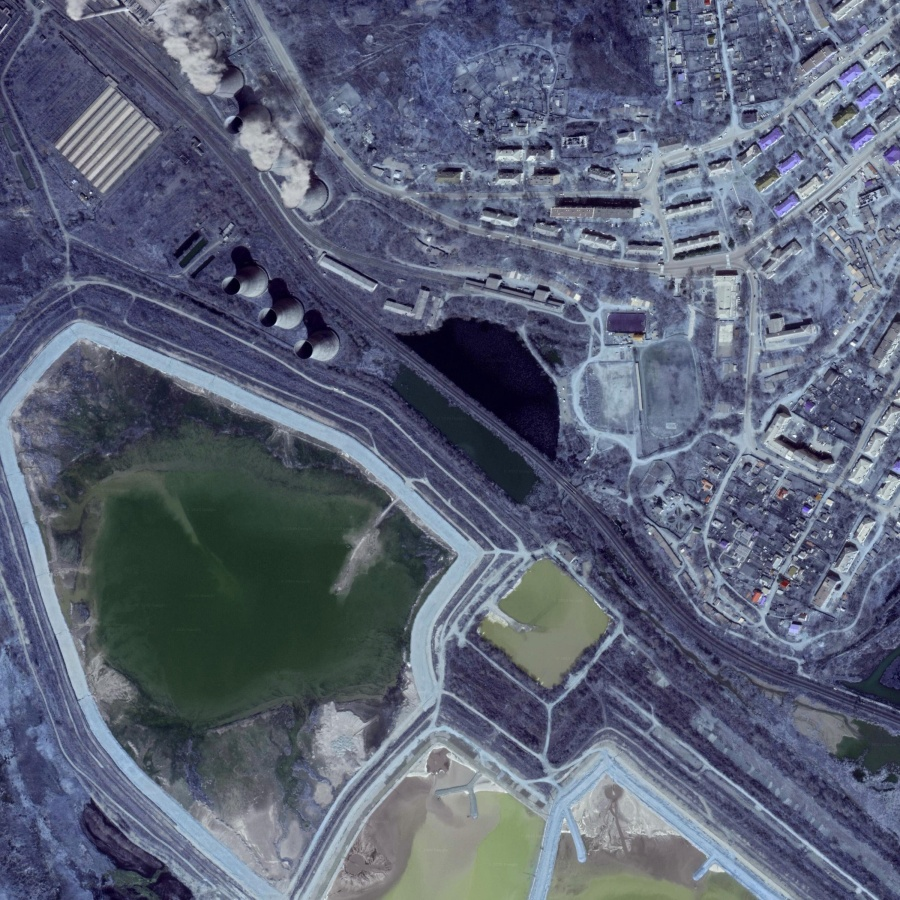PowerPlant: (160, 1, 374, 374)
